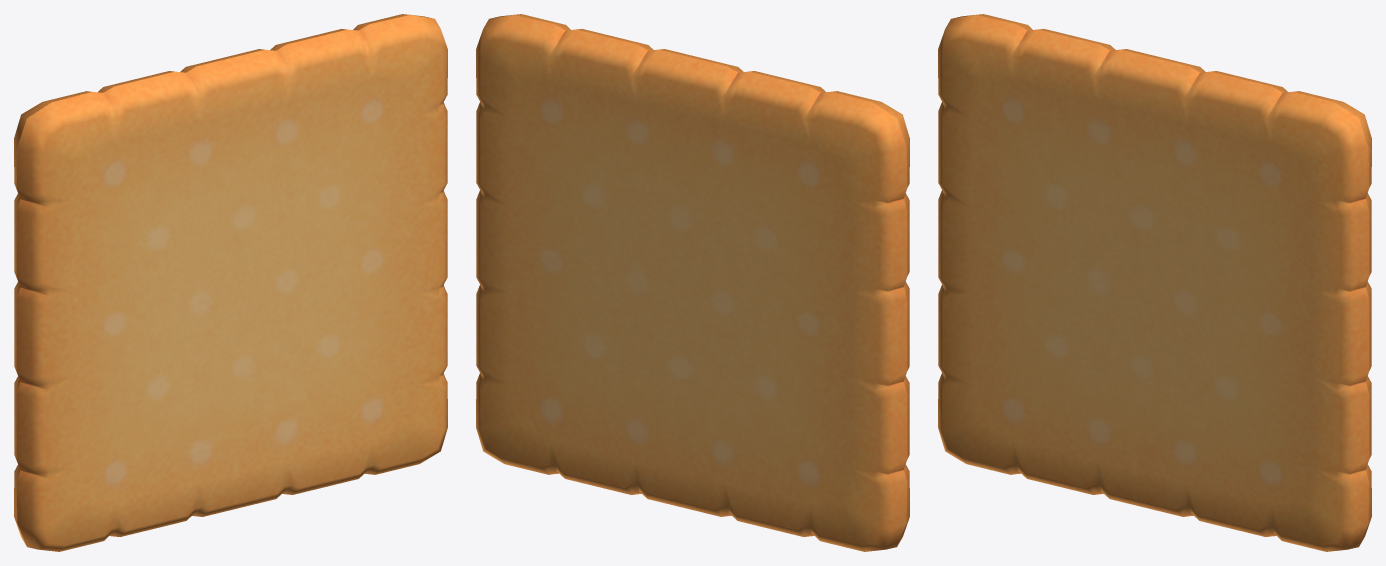
The model's file is Cracker_1.fbx.
3 renders of one model, left to right at view 1: azimuth 30°, elevation 25°; view 2: azimuth 150°, elevation 25°; view 3: azimuth 330°, elevation 25°, orthographic.
Visible parts, largest first — view 1: Cracker_1; view 2: Cracker_1; view 3: Cracker_1.
Part boxes in pixels (box(x1,y1,x2,y2)): Cracker_1: box(14, 14, 447, 551); Cracker_1: box(476, 14, 909, 551); Cracker_1: box(938, 14, 1371, 551).
Size of the model in its own units: 0.0402 by 0.0403 by 0.00415.
Materials: 1 (1 with a texture image).
